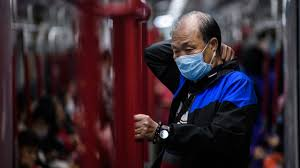mask: (171, 14, 219, 78)
